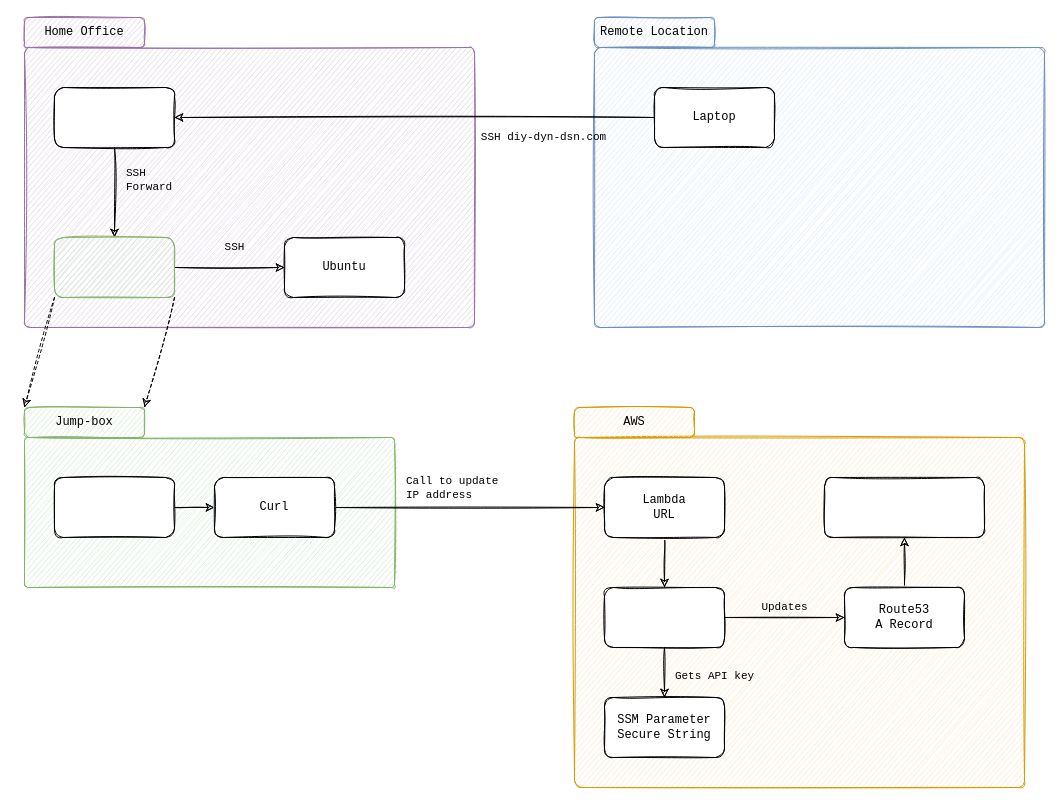
Some shapes in this 1062 by 805 pixel diagram are drawn without their labels. Here are the shapes that lost their labels. From the top down, the centre of each, then its label:
the point at 114,117: Router
the point at 114,267: Jump-box (Raspberry)
the point at 114,507: Cronjob
the point at 904,507: Route53 Hosted Zone "diy-dyn-dns.com"
the point at 664,617: Lambda
